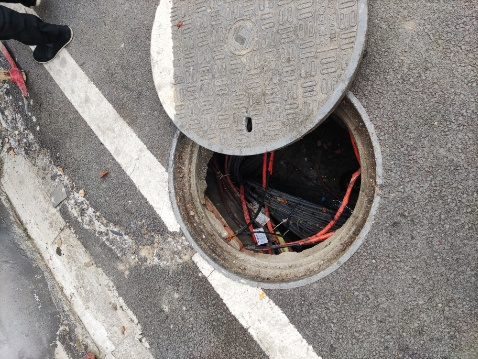uncovered: (149, 1, 382, 287)
